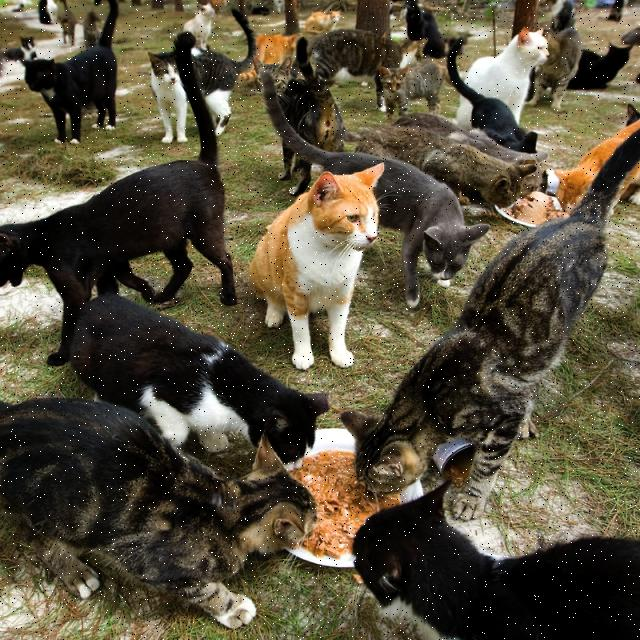cat: (341, 130, 640, 520), (0, 32, 236, 365), (0, 398, 316, 628), (261, 71, 489, 308), (70, 295, 329, 469), (354, 484, 640, 640), (250, 164, 384, 369), (356, 126, 535, 206), (22, 0, 119, 143), (448, 39, 538, 153), (256, 38, 345, 152), (310, 29, 426, 109), (191, 10, 256, 134), (554, 120, 640, 212), (465, 29, 549, 123), (394, 114, 546, 164), (528, 28, 582, 111), (379, 61, 445, 121), (150, 52, 188, 142), (568, 44, 631, 89), (407, 0, 445, 58), (279, 145, 311, 194), (182, 4, 216, 49), (256, 34, 298, 64), (305, 10, 341, 34), (620, 162, 640, 204), (1, 38, 36, 61), (59, 0, 76, 45), (82, 11, 101, 48), (279, 145, 294, 179), (456, 99, 472, 128), (522, 171, 541, 193), (40, 0, 58, 23), (608, 0, 624, 22)
